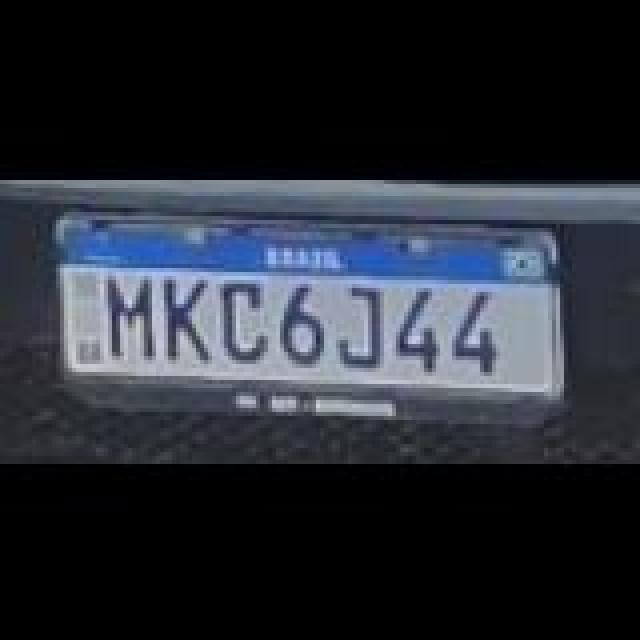4: (390, 286, 442, 370), (450, 286, 502, 370)
6: (276, 278, 332, 362)
C: (220, 278, 276, 362)
J: (336, 282, 392, 366)
K: (160, 272, 216, 360)
M: (102, 272, 162, 360)
